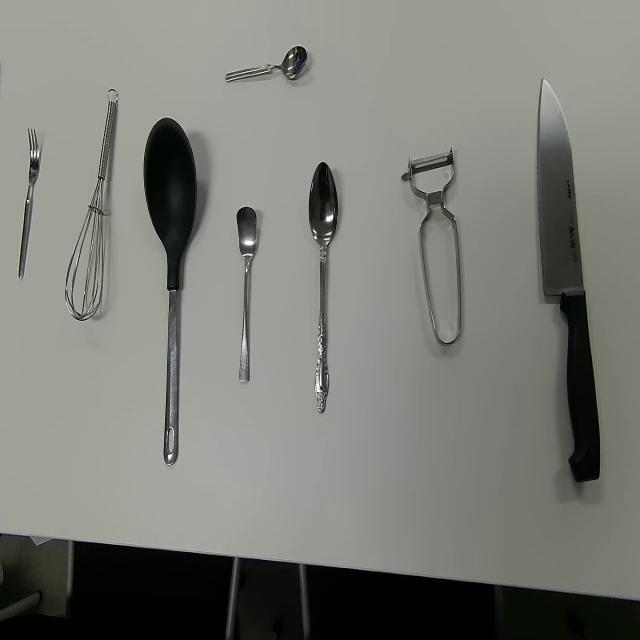Desert-Spoon: (308, 161, 339, 416)
Dinner-Fork: (17, 126, 40, 282)
Kitchen-Knife: (536, 75, 601, 483)
Peeler: (401, 145, 462, 348)
Serving-Spoon: (142, 116, 198, 469)
Tea-Spoon: (235, 205, 258, 384), (224, 44, 308, 85)
Whisk: (64, 88, 118, 322)
